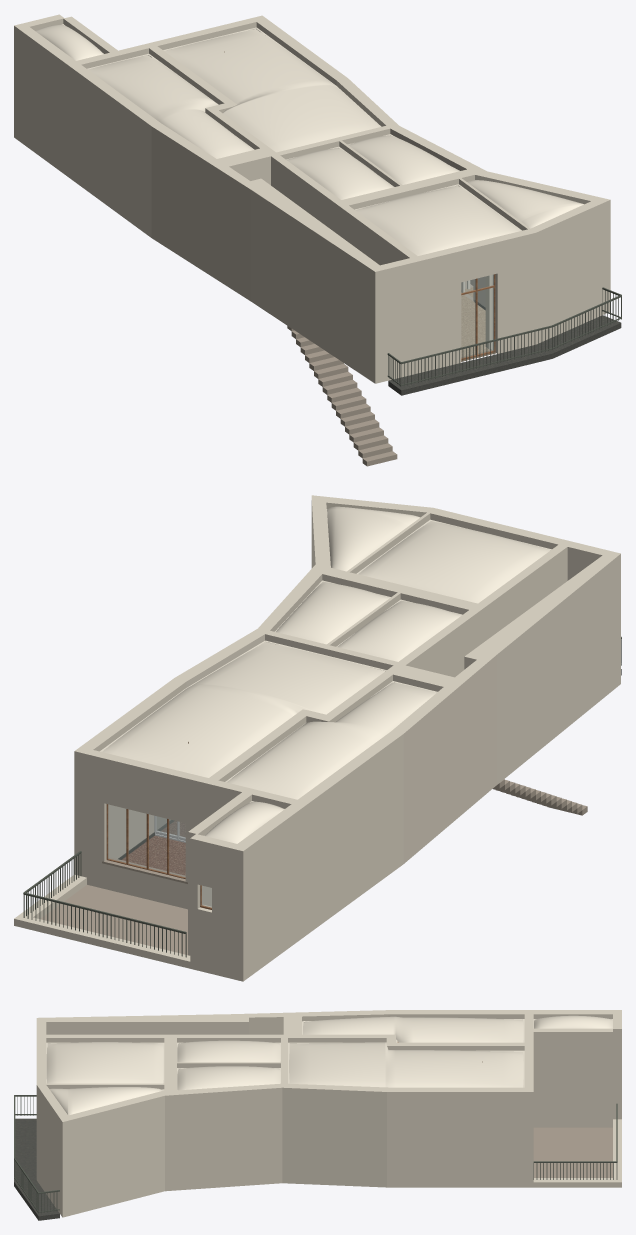
3 views of the same model, one above another, from view 1: azimuth 30°, elevation 25°; view 2: azimuth 150°, elevation 25°; view 3: azimuth 270°, elevation 25° (orthographic). The views are drawn at different scales.
Parts seen in each view (by area): view 1: Murature DOCFA.007, Murature DOCFA.002, Volta ribassata indicativa.002, Murature DOCFA.003, Murature DOCFA.001, Volta ribassata indicativa.005, Volta ribassata indicativa.001, Balcone spezzato, Murature DOCFA.006, Murature DOCFA, Volta ribassata indicativa.003, Volta ribassata indicativa.004 (+7 smaller); view 2: Murature DOCFA.007, Murature DOCFA.002, Volta ribassata indicativa.002, Murature DOCFA.001, Murature DOCFA.003, Volta ribassata indicativa.001, Volta ribassata indicativa.005, Murature DOCFA, Pavimento Terrazzo, Murature DOCFA.006, Volta ribassata indicativa.003, Volta ribassata indicativa.004 (+9 smaller); view 3: Murature DOCFA.007, Murature DOCFA.002, Murature DOCFA.003, Volta ribassata indicativa.002, Murature DOCFA.001, Volta ribassata indicativa.005, Murature DOCFA, Volta ribassata indicativa.001, Pavimento Terrazzo, Murature DOCFA.006, Balcone spezzato, Volta ribassata indicativa.003 (+5 smaller).
Boxes of the visible parts, x1=… form: Murature DOCFA.007: x1=14, y1=14, x2=610, y2=303; Murature DOCFA.002: x1=14, y1=85, x2=610, y2=360; Volta ribassata indicativa.002: x1=164, y1=29, x2=379, y2=152; Murature DOCFA.003: x1=14, y1=65, x2=610, y2=330; Murature DOCFA.001: x1=14, y1=115, x2=610, y2=377; Volta ribassata indicativa.005: x1=355, y1=186, x2=520, y2=255; Volta ribassata indicativa.001: x1=88, y1=55, x2=253, y2=158; Balcone spezzato: x1=388, y1=315, x2=621, y2=395; Murature DOCFA.006: x1=14, y1=57, x2=610, y2=309; Murature DOCFA: x1=14, y1=131, x2=609, y2=383; Volta ribassata indicativa.003: x1=287, y1=148, x2=393, y2=199; Volta ribassata indicativa.004: x1=348, y1=135, x2=459, y2=184; Murature DOCFA.007: x1=74, y1=495, x2=620, y2=887; Murature DOCFA.002: x1=74, y1=623, x2=620, y2=954; Volta ribassata indicativa.002: x1=102, y1=642, x2=384, y2=777; Murature DOCFA.001: x1=74, y1=658, x2=620, y2=974; Murature DOCFA.003: x1=74, y1=546, x2=620, y2=919; Volta ribassata indicativa.001: x1=226, y1=682, x2=436, y2=799; Volta ribassata indicativa.005: x1=358, y1=521, x2=550, y2=603; Murature DOCFA: x1=14, y1=677, x2=620, y2=981; Pavimento Terrazzo: x1=40, y1=885, x2=187, y2=955; Murature DOCFA.006: x1=74, y1=537, x2=620, y2=895; Volta ribassata indicativa.003: x1=337, y1=600, x2=461, y2=661; Volta ribassata indicativa.004: x1=276, y1=581, x2=389, y2=644; Murature DOCFA.007: x1=36, y1=1010, x2=621, y2=1148; Murature DOCFA.002: x1=36, y1=1079, x2=621, y2=1197; Murature DOCFA.003: x1=36, y1=1062, x2=621, y2=1172; Volta ribassata indicativa.002: x1=289, y1=1042, x2=523, y2=1087; Murature DOCFA.001: x1=36, y1=1105, x2=621, y2=1212; Volta ribassata indicativa.005: x1=46, y1=1042, x2=163, y2=1083; Murature DOCFA: x1=36, y1=1119, x2=621, y2=1217; Volta ribassata indicativa.001: x1=303, y1=1016, x2=523, y2=1042; Pavimento Terrazzo: x1=533, y1=1127, x2=612, y2=1177; Murature DOCFA.006: x1=36, y1=1056, x2=621, y2=1154; Balcone spezzato: x1=14, y1=1118, x2=59, y2=1220; Volta ribassata indicativa.003: x1=177, y1=1040, x2=280, y2=1062.
Size of the model in its own units: 10.67 by 8.13 by 24.46.
Materials: 17 (4 with a texture image).
